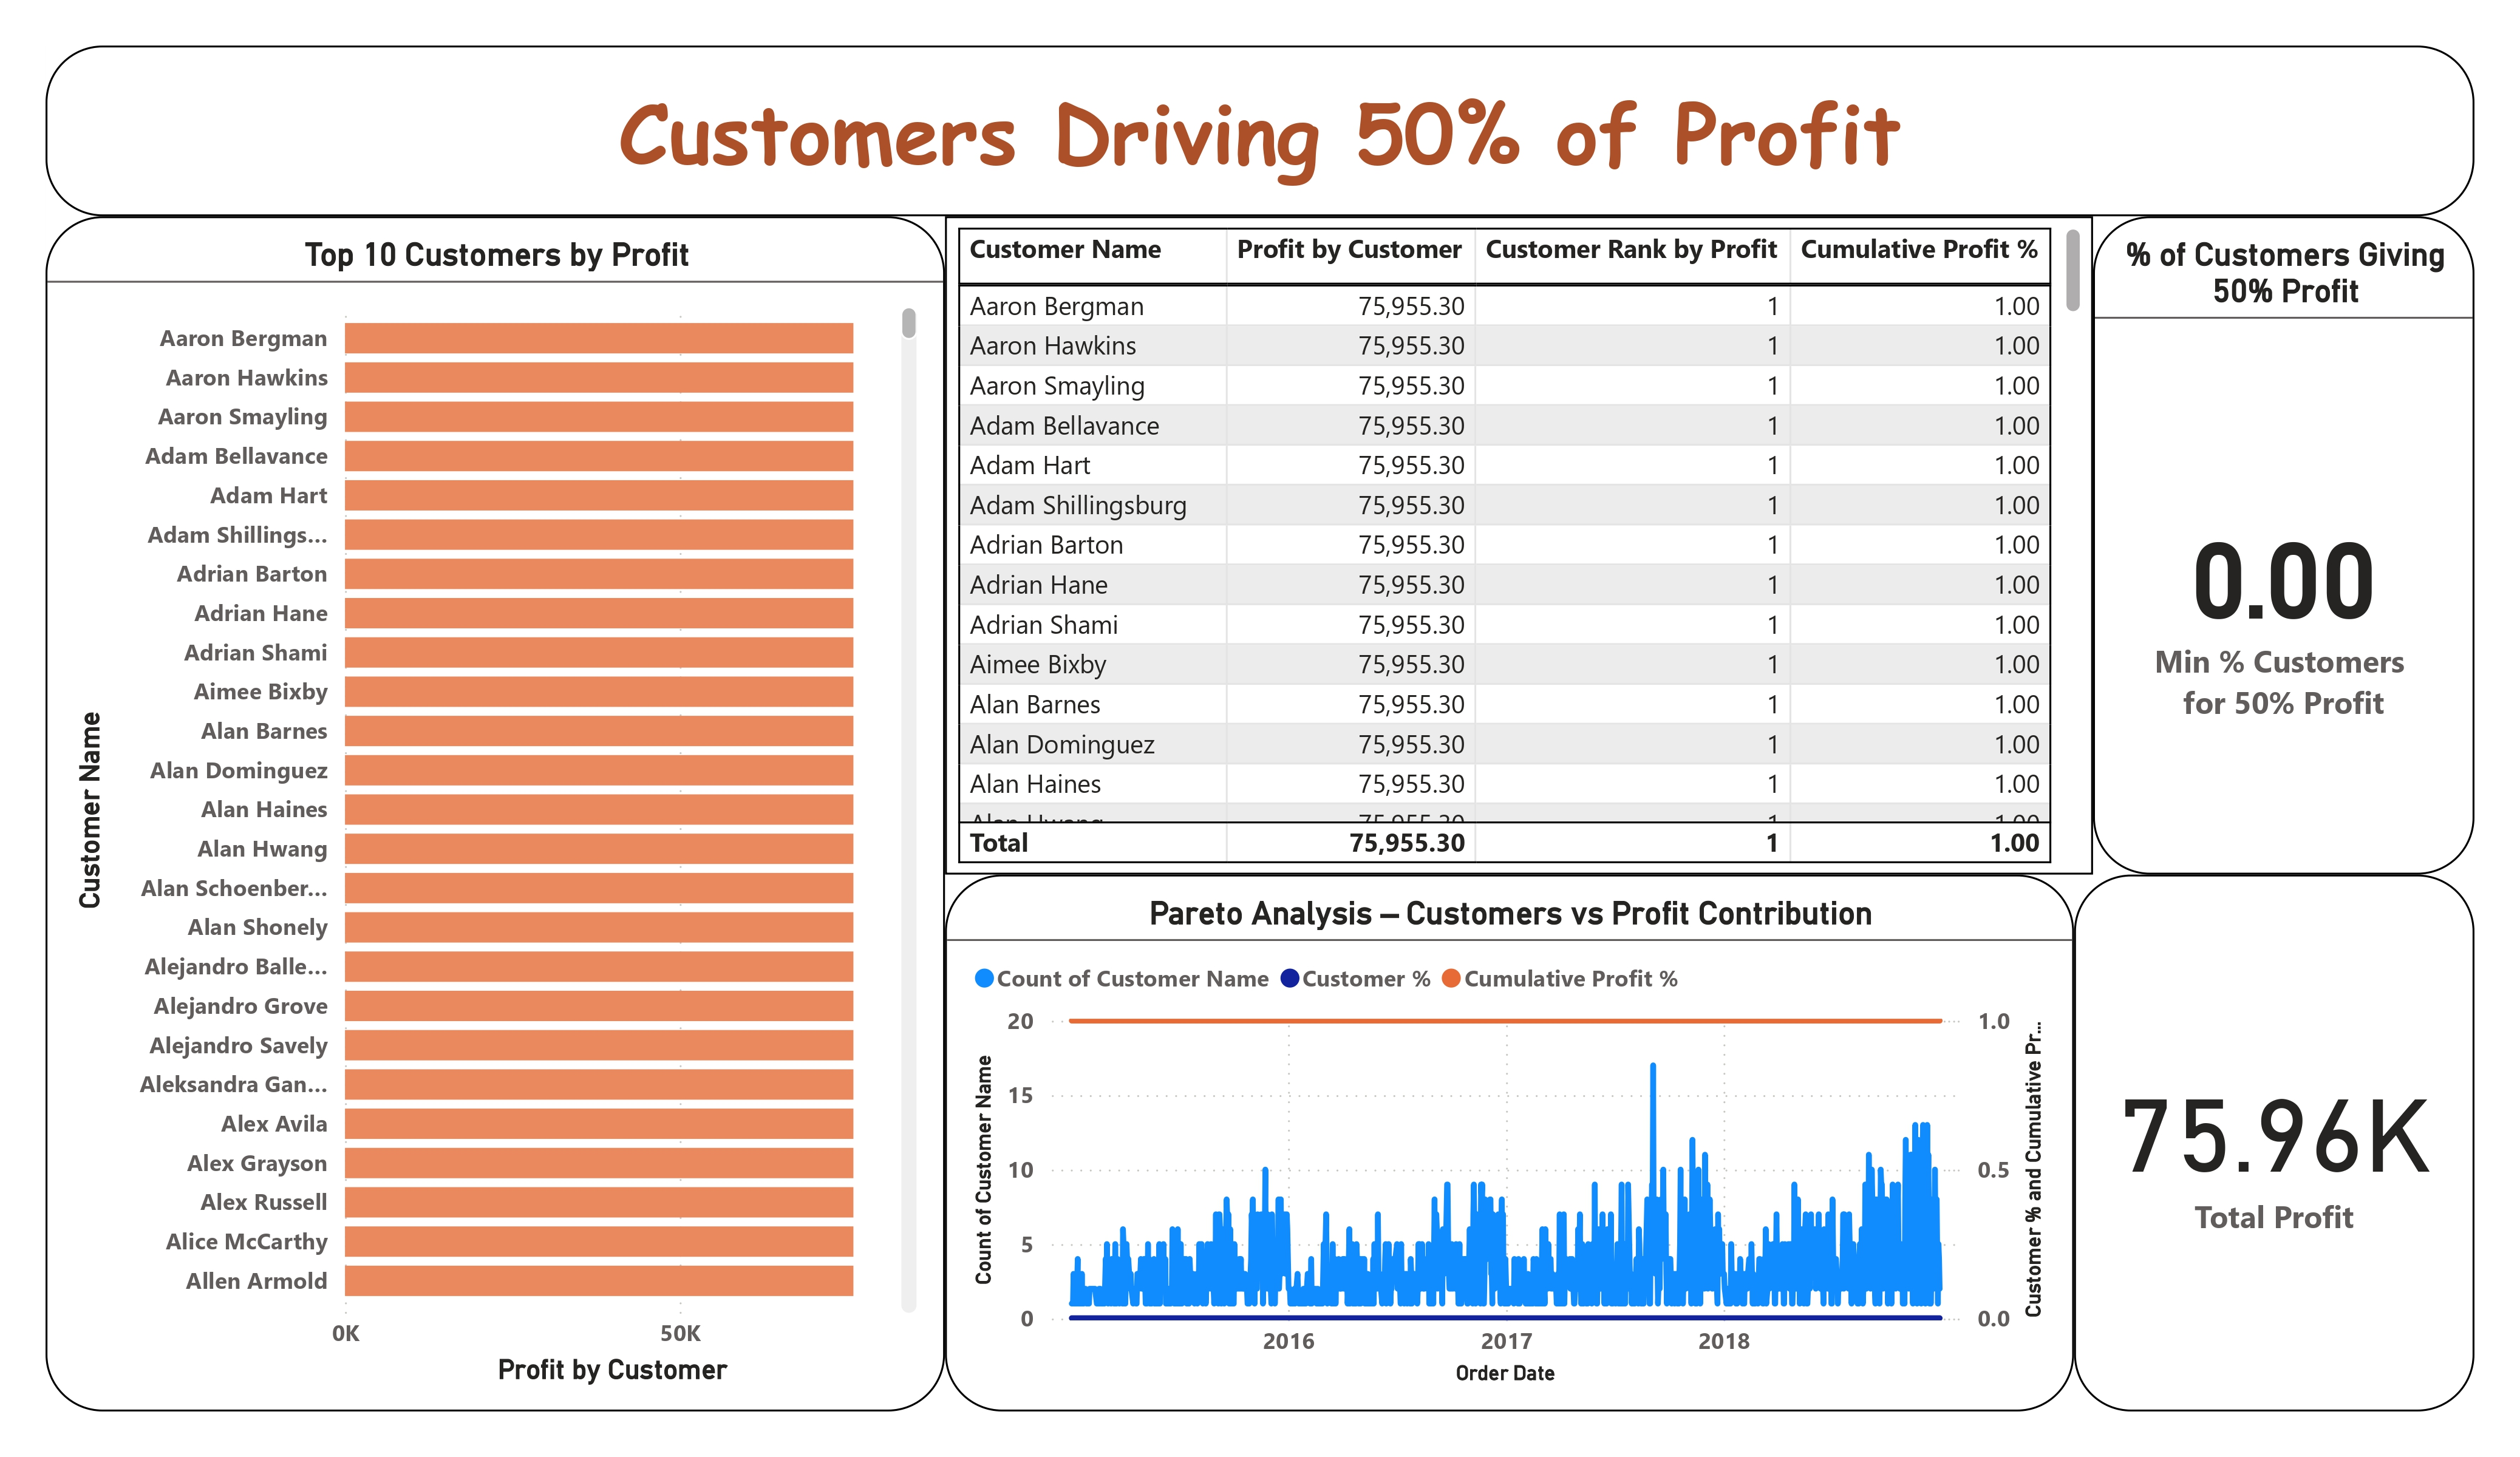

Layout of this report page (visuals, bound fields, positions):
{"tool":"powerbi","page":{"name":"Customers Driving 50% of Profit","canvas":[1280,720],"ordinal":4},"visuals":[{"type":"lineChart","title":"Pareto Analysis – Customers vs Profit Contribution","fields":{"Y2":["Append1.Customer %","Append1.Cumulative Profit %"],"Category":["Append1.Order Date.Variation.Date Hierarchy.Year"],"Y":["CountNonNull(Append1.Customer Name)"]},"box":[474.3,437.1,594.3,282.9],"z":0},{"type":"barChart","title":"Top 10 Customers by Profit","fields":{"Y":["Append1.Profit by Customer"],"Category":["Append1.Customer Name"]},"box":[0,90,474.3,630],"z":1000},{"type":"card","title":"% of Customers Giving 50% Profit","fields":{"Values":["Append1.Min % Customers for 50% Profit"]},"box":[1078.6,90,201.4,347.1],"z":2000},{"type":"card","fields":{"Values":["Append1.Total Profit"]},"box":[1068.6,437.1,211.4,282.9],"z":3000},{"type":"tableEx","fields":{"Values":["Append1.Customer Name","Append1.Profit by Customer","Append1.Customer Rank by Profit","Append1.Cumulative Profit %"]},"box":[474.3,90,604.3,347.1],"z":4000},{"type":"textbox","box":[0,0,1280,90],"z":5000}]}

Visuals, with their boxes on the page's 1280x720 design canvas (x1, y1, x2, y2). These are canvas units, not pixel positions in the 2520x1457 screenshot, which may show the page scaled, cropped or inside an application window:
"Pareto Analysis – Customers vs Profit Contribution" lineChart: pyautogui.locateOnScreen(474, 437, 1069, 720)
"Top 10 Customers by Profit" barChart: pyautogui.locateOnScreen(0, 90, 474, 720)
"% of Customers Giving 50% Profit" card: pyautogui.locateOnScreen(1079, 90, 1280, 437)
card - Append1.Total Profit: pyautogui.locateOnScreen(1069, 437, 1280, 720)
tableEx - Append1.Customer Name x Append1.Profit by Customer: pyautogui.locateOnScreen(474, 90, 1079, 437)
textbox: pyautogui.locateOnScreen(0, 0, 1280, 90)
